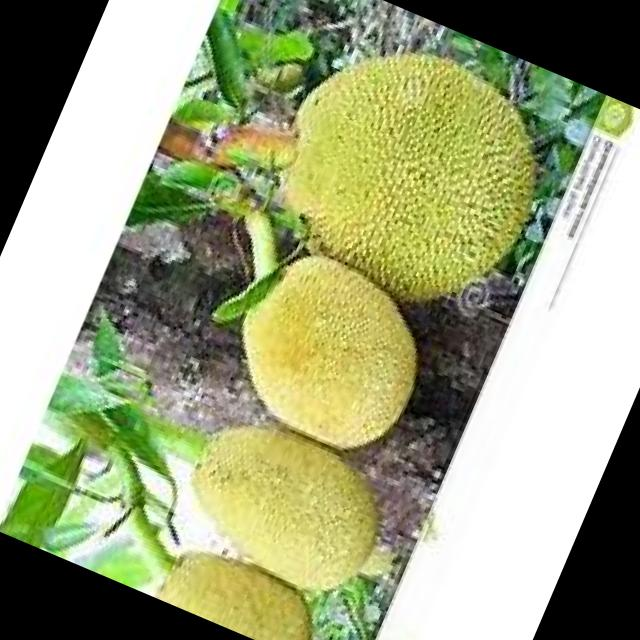Fruit: (231, 0, 596, 352), (197, 223, 468, 484), (145, 378, 424, 629), (130, 513, 364, 640)
